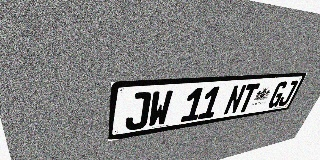1: (181, 87, 206, 122), (198, 86, 223, 119)
G: (266, 81, 289, 108)
J: (125, 91, 152, 131), (277, 80, 299, 107)
N: (223, 84, 247, 115)
T: (236, 83, 260, 113)
W: (147, 90, 174, 128)
